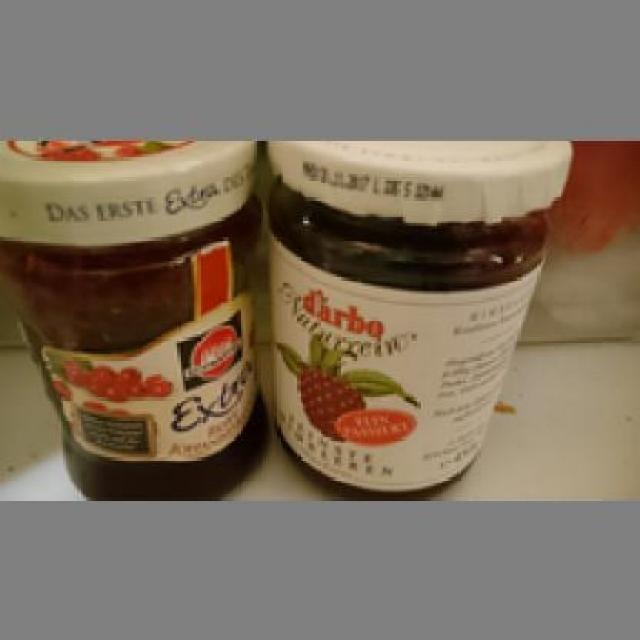Jam: (259, 137, 572, 494), (0, 136, 275, 495)
